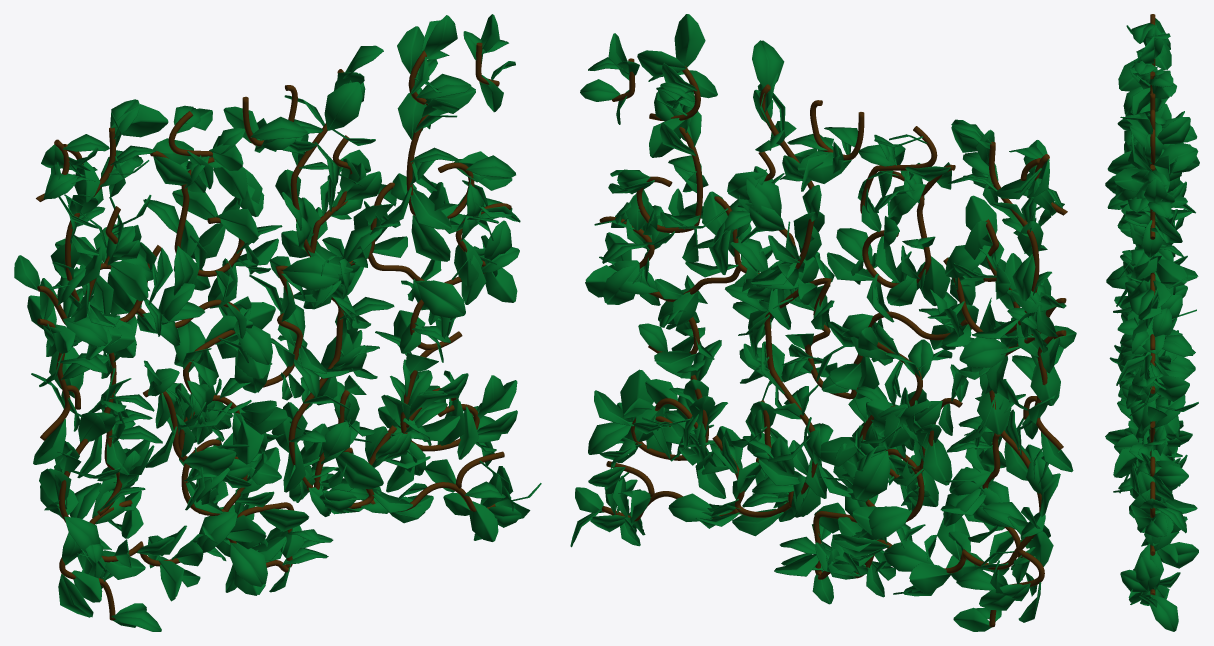
File: Vine_C.fbx
The picture shows the model from 3 angles, left to right: view 1: azimuth 30°, elevation 25°; view 2: azimuth 150°, elevation 25°; view 3: azimuth 270°, elevation 25°; orthographic projection. The views are drawn at different scales.
Visible parts, largest first — view 1: Vine_C; view 2: Vine_C; view 3: Vine_C.
Boxes of the visible parts, x1,y1,x2,y2 form: Vine_C: (14, 14, 541, 631); Vine_C: (570, 14, 1076, 631); Vine_C: (1105, 14, 1199, 631).
Size of the model in its own units: 192 by 197 by 36.67.
